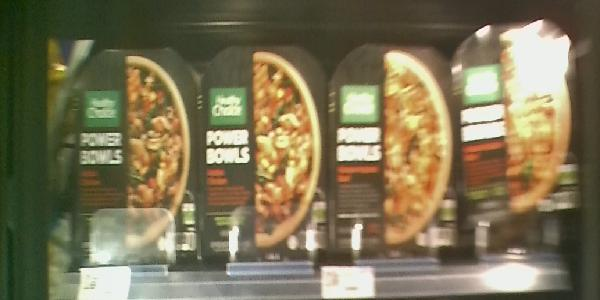pizza1: (60, 44, 206, 263), (455, 16, 573, 250), (324, 42, 452, 252), (205, 41, 327, 259)
